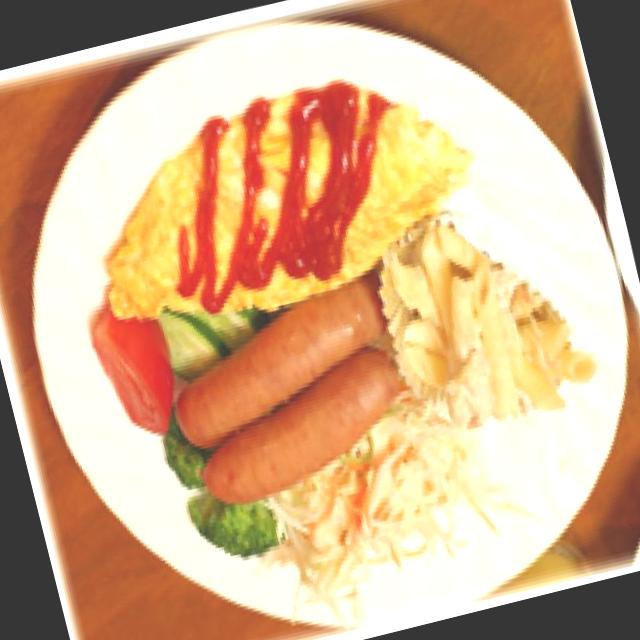Omelet: (66, 51, 486, 342)
